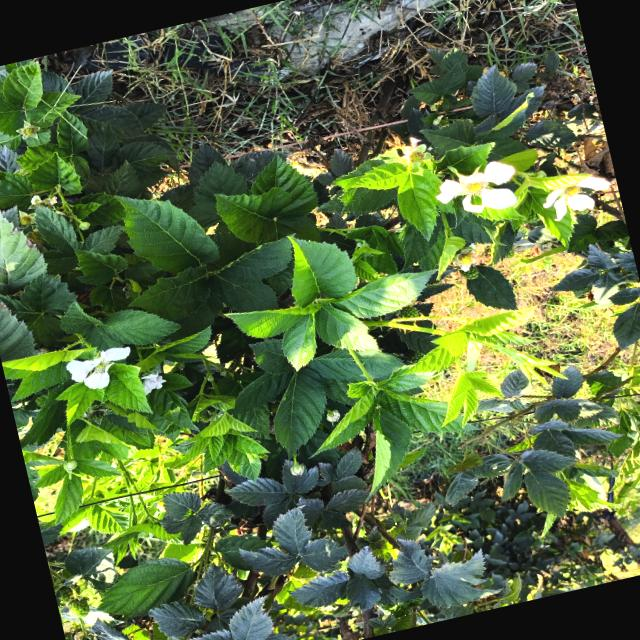boton: (290, 462, 305, 475), (326, 410, 340, 422)
flor: (436, 161, 517, 212), (543, 175, 609, 220), (66, 346, 130, 389), (141, 373, 165, 394)
